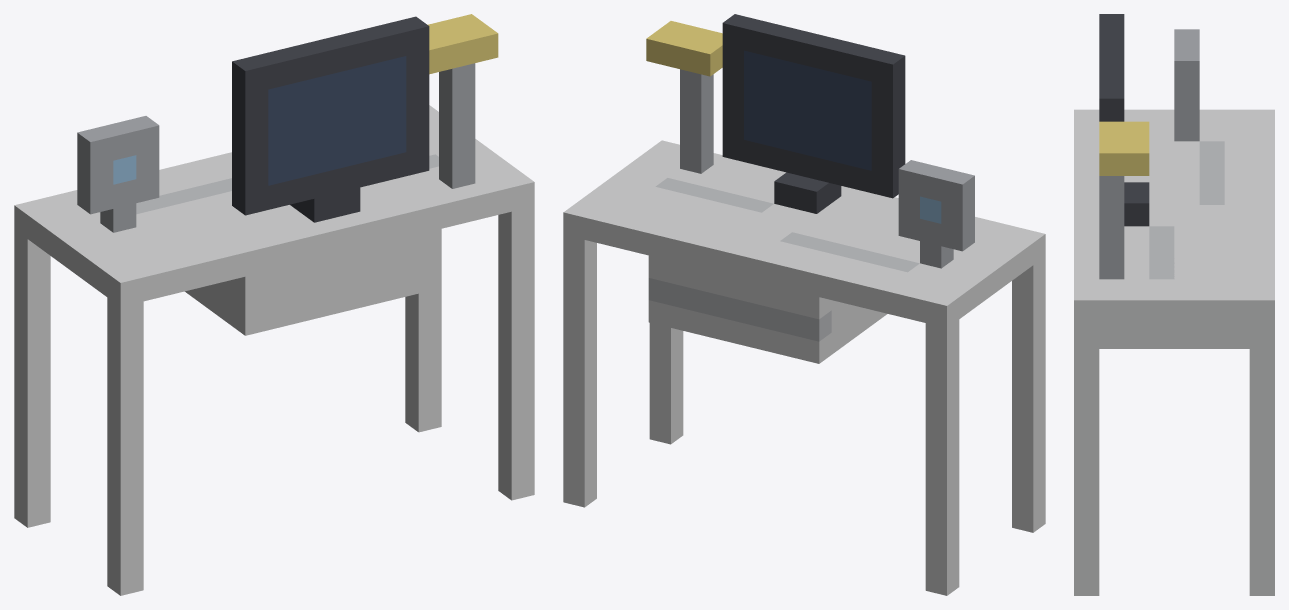
File: bureau.glb
3 views of the same model, side by side, from view 1: azimuth 30°, elevation 25°; view 2: azimuth 150°, elevation 25°; view 3: azimuth 270°, elevation 25° (orthographic). The views are drawn at different scales.
Visible parts, largest first — view 1: main; view 2: main; view 3: main.
Part boxes in pixels (bbox=[...]): main: bbox=[14, 14, 534, 595]; main: bbox=[563, 14, 1045, 595]; main: bbox=[1074, 14, 1274, 595].
Size of the model in its own units: 1.12 by 1.25 by 0.5.
